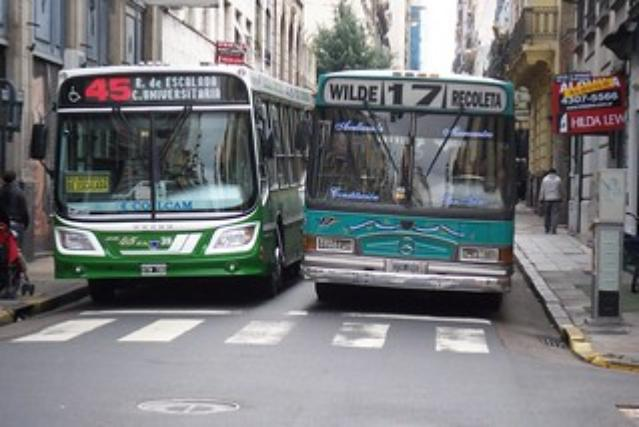bus: (32, 64, 305, 301), (297, 66, 518, 313)
